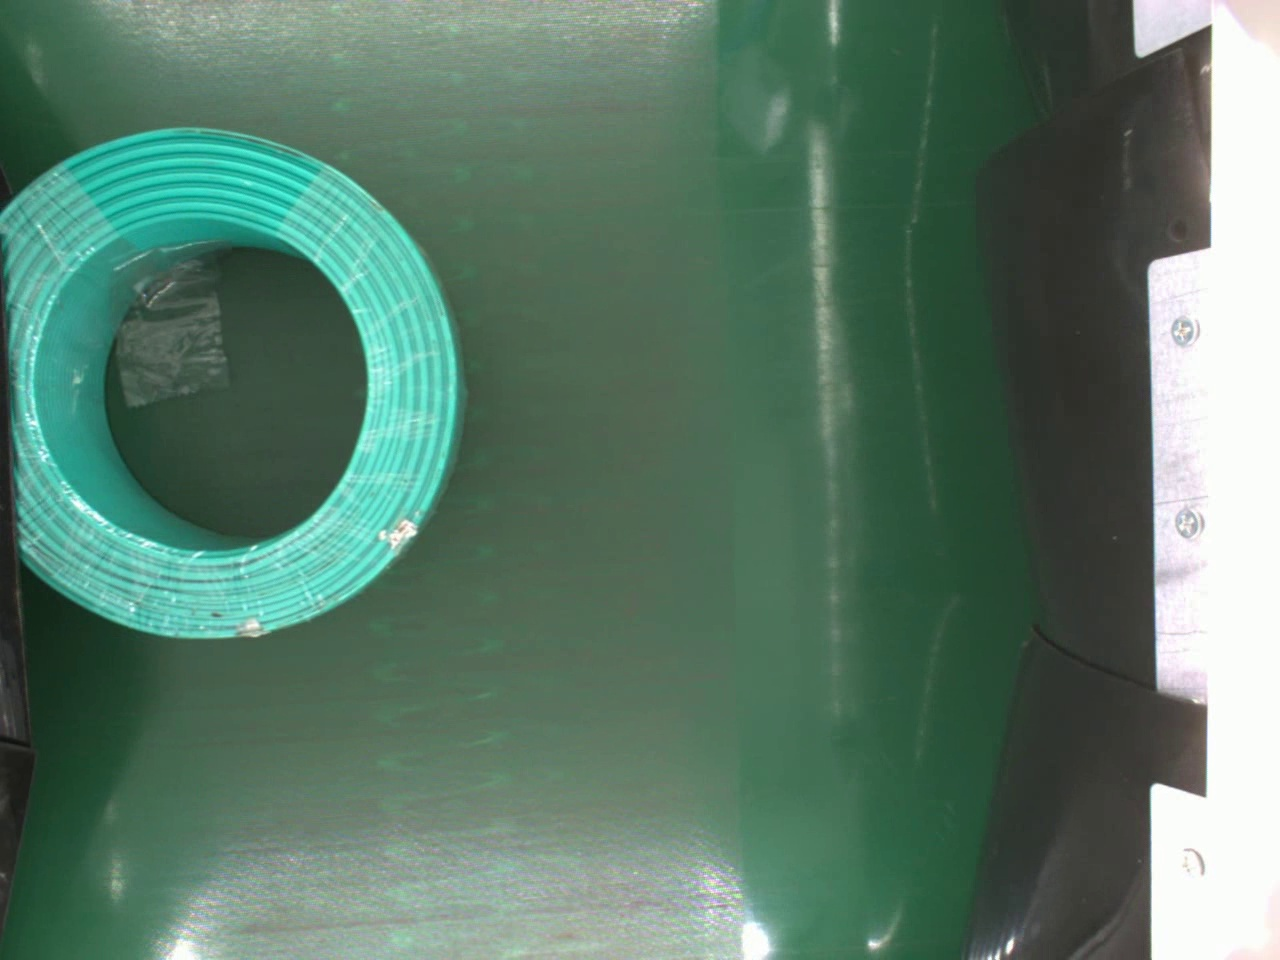green: (2, 123, 463, 648)
